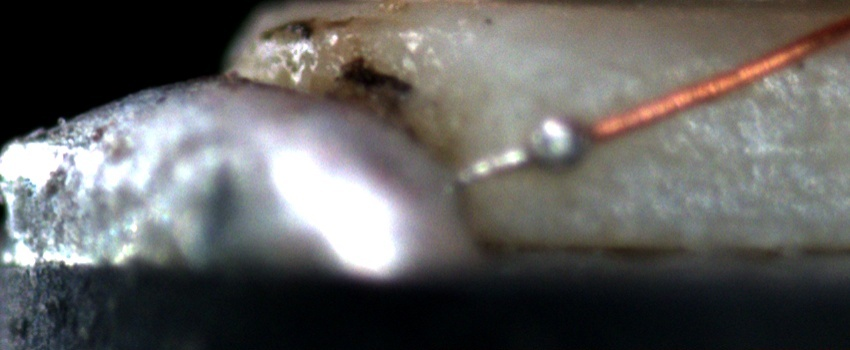DL: (612, 27, 850, 91), (641, 134, 850, 168)
TB: (524, 106, 592, 173)
TS: (456, 125, 584, 182)
TTCW: (455, 96, 658, 189)
